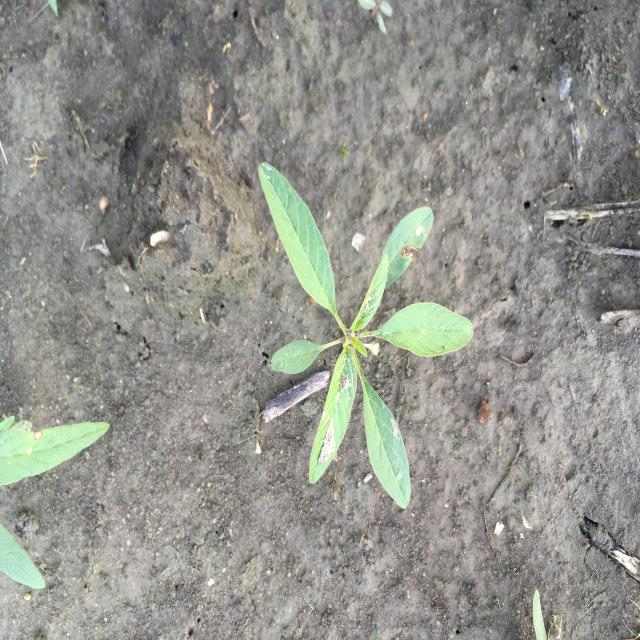Waterhemp: (256, 160, 476, 512), (0, 411, 113, 593)
